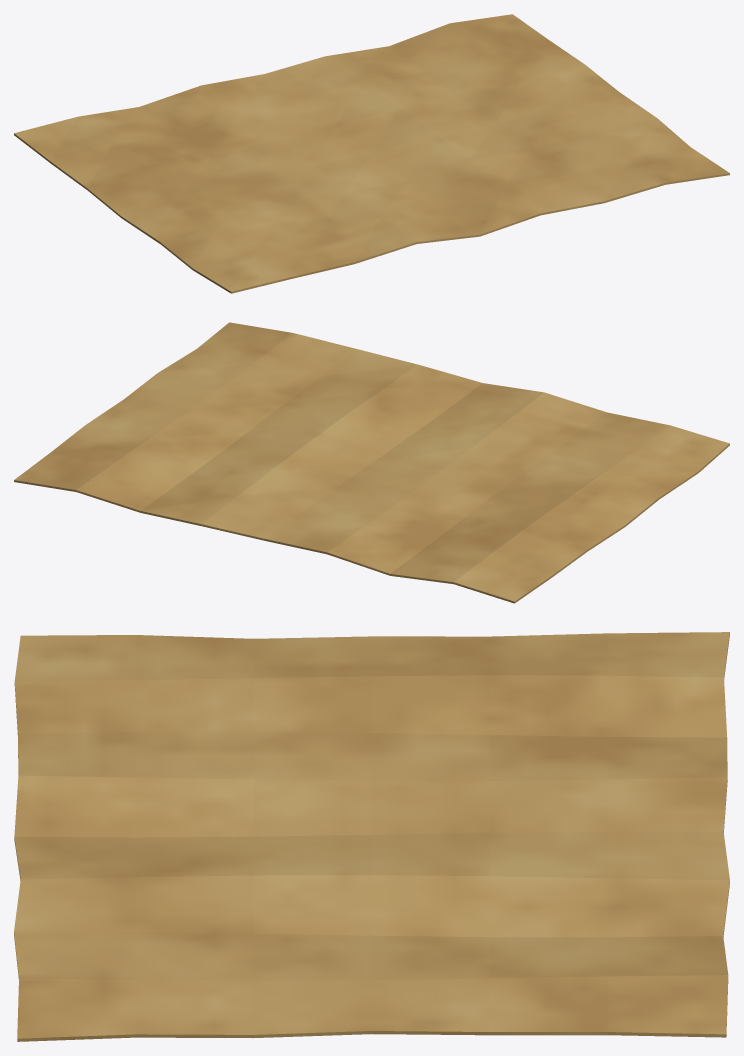
The model's file is Parchment_Sheet.obj.
3 renders of one model, top to bottom at view 1: azimuth 30°, elevation 25°; view 2: azimuth 150°, elevation 25°; view 3: azimuth 270°, elevation 25°, orthographic. The views are drawn at different scales.
Visible parts, largest first — view 1: Parchment_Surface; view 2: Parchment_Surface; view 3: Parchment_Surface.
Part boxes in pixels (box(x1,y1,x2,y2)): Parchment_Surface: box(14, 14, 729, 293); Parchment_Surface: box(14, 322, 729, 603); Parchment_Surface: box(14, 632, 729, 1041).
Size of the model in its own units: 0.4029 by 0.00729 by 0.3028.
1 material, 1 textured.
